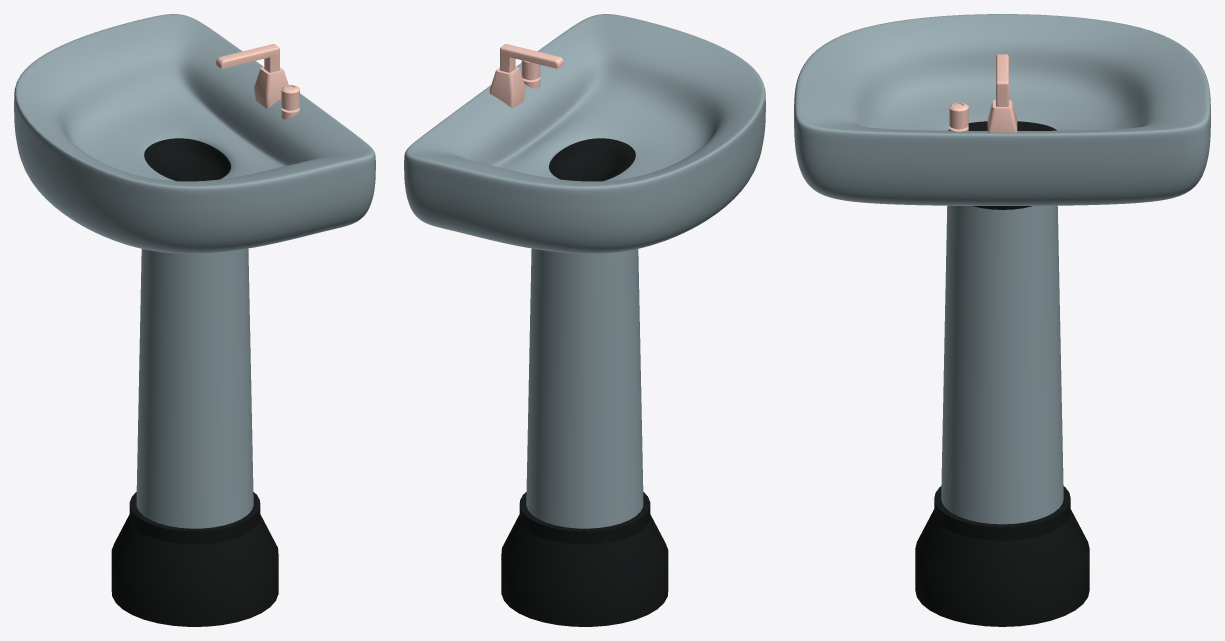
The model's file is sink.fbx.
3 views of the same model, side by side, from view 1: azimuth 30°, elevation 25°; view 2: azimuth 150°, elevation 25°; view 3: azimuth 270°, elevation 25° (orthographic). The views are drawn at different scales.
Visible parts, largest first — view 1: Cube; view 2: Cube; view 3: Cube.
Part boxes in pixels (x1,y1,x2,y2): Cube: (14,14,375,626); Cube: (404,14,765,626); Cube: (794,14,1210,626).
Bounding box in the file's own units: 296 × 621 × 427.
